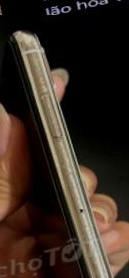scratch: (11, 29, 129, 278)
